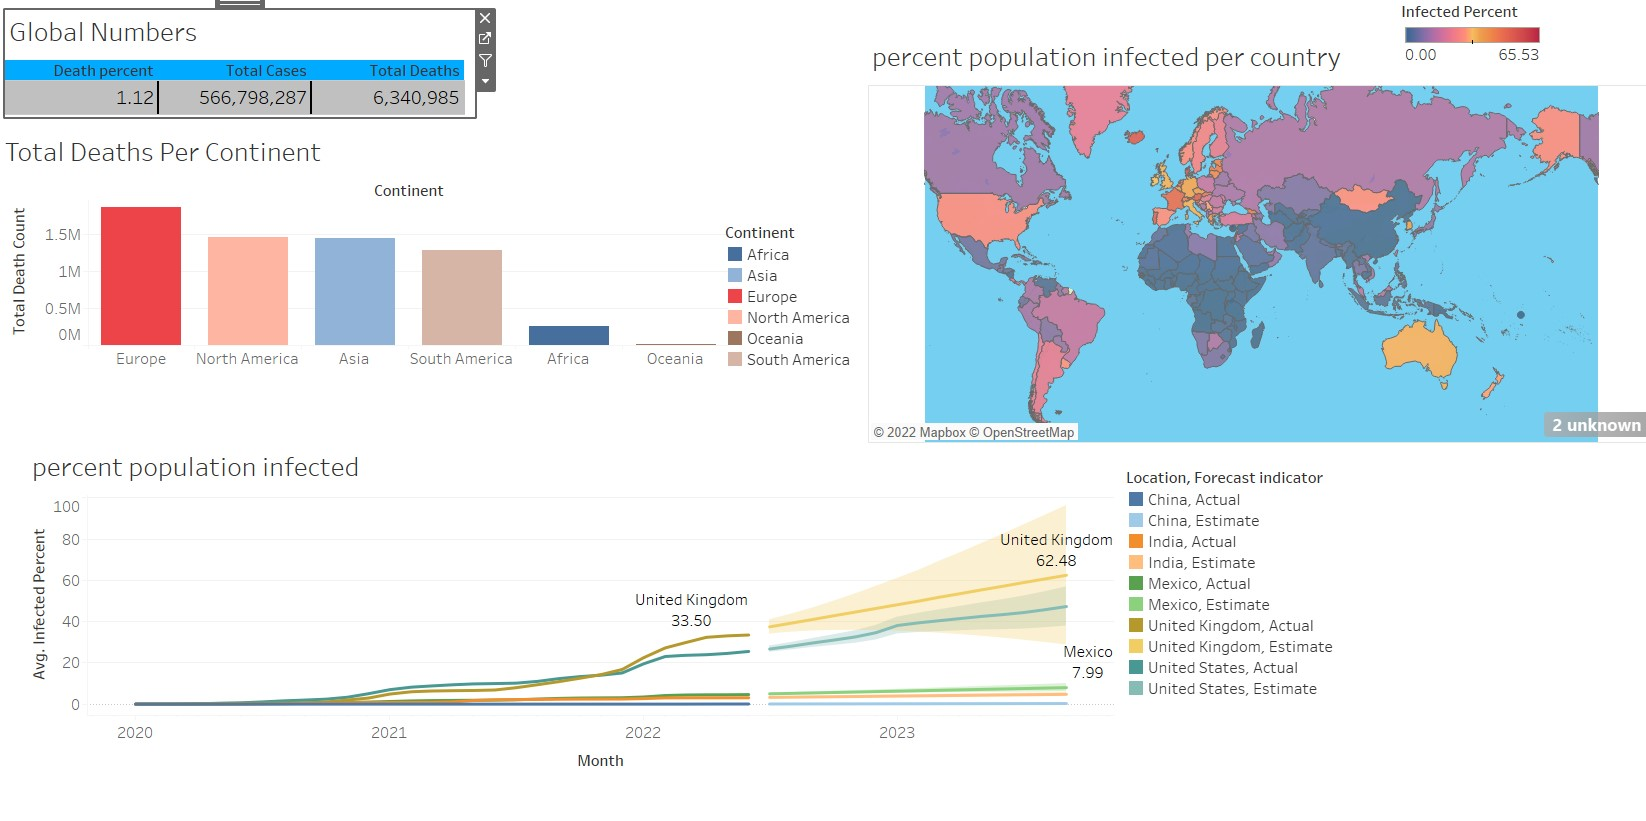

The dashboard page shown, as its layout file describes it:
{"tool":"tableau","page":{"name":"Dashboard 1","canvas":[1000,1000],"units":"permille","ordinal":0},"visuals":[{"type":"legend","title":"Sheet 3","param":"[federated.1q2hwrt0no0nvu199o9ay0ppqsr2].[sum:infected_percent:qk]","box":[846.2,4.7,86.1,103.4]},{"type":"worksheet","title":"Sheet 1","mark":"Automatic","box":[3.7,15.3,283.5,125.7]},{"type":"worksheet","title":"Sheet 3","mark":"Automatic","box":[524.6,44.6,475.4,479.4]},{"type":"worksheet","title":"Sheet 2","mark":"Automatic","rows":["TotalDeathCount"],"cols":["location"],"box":[1.2,156.3,439.1,282]},{"type":"legend","title":"Sheet 2","param":"[federated.09tr1av1dq257i110kg5g1qjees6].[none:location:nk]","box":[437.9,264.4,86.1,173.9]},{"type":"worksheet","title":"Sheet 4","mark":"Automatic","rows":["infected_percent"],"cols":["date"],"box":[17.2,526.4,655.6,391.3]},{"type":"legend","title":"Sheet 4","param":"[federated.07zjde219usybj1fzj85d0gqrqph].[none:Location:nk]\n[federated.07zjde219","box":[680.2,552.3,130.4,272.6]}]}

Visuals, with their boxes on the dashboard's canvas, which has no fixed pixel size, in thousandths of its width and height (x1, y1, x2, y2). These are canvas units, not pixel positions in the 1646x821 screenshot, which may show the page scaled, cropped or inside an application window:
"Sheet 3" legend: 846,5,932,108
"Sheet 1" worksheet: 4,15,287,141
"Sheet 3" worksheet: 525,45,1000,524
"Sheet 2" worksheet: 1,156,440,438
"Sheet 2" legend: 438,264,524,438
"Sheet 4" worksheet: 17,526,673,918
"Sheet 4" legend: 680,552,811,825
